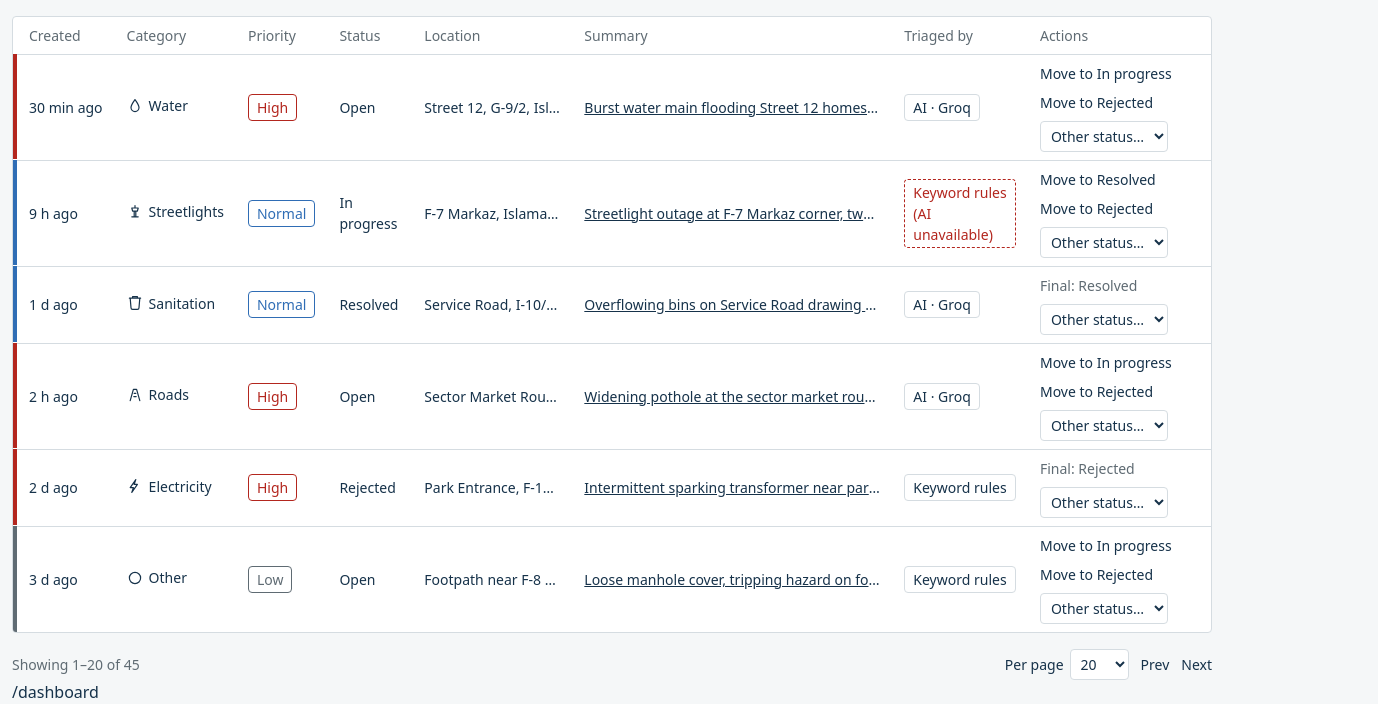
9. Next requests page=2 and the range text reflects it
The width and height of the screenshot is (1378, 704).
(page scrolled)
expect the text "Showing 1–20 of 45" is shown: met, box [12, 654, 140, 675]
Click the button "Next" at [1197, 664], box [1181, 654, 1212, 675]
(page scrolled)
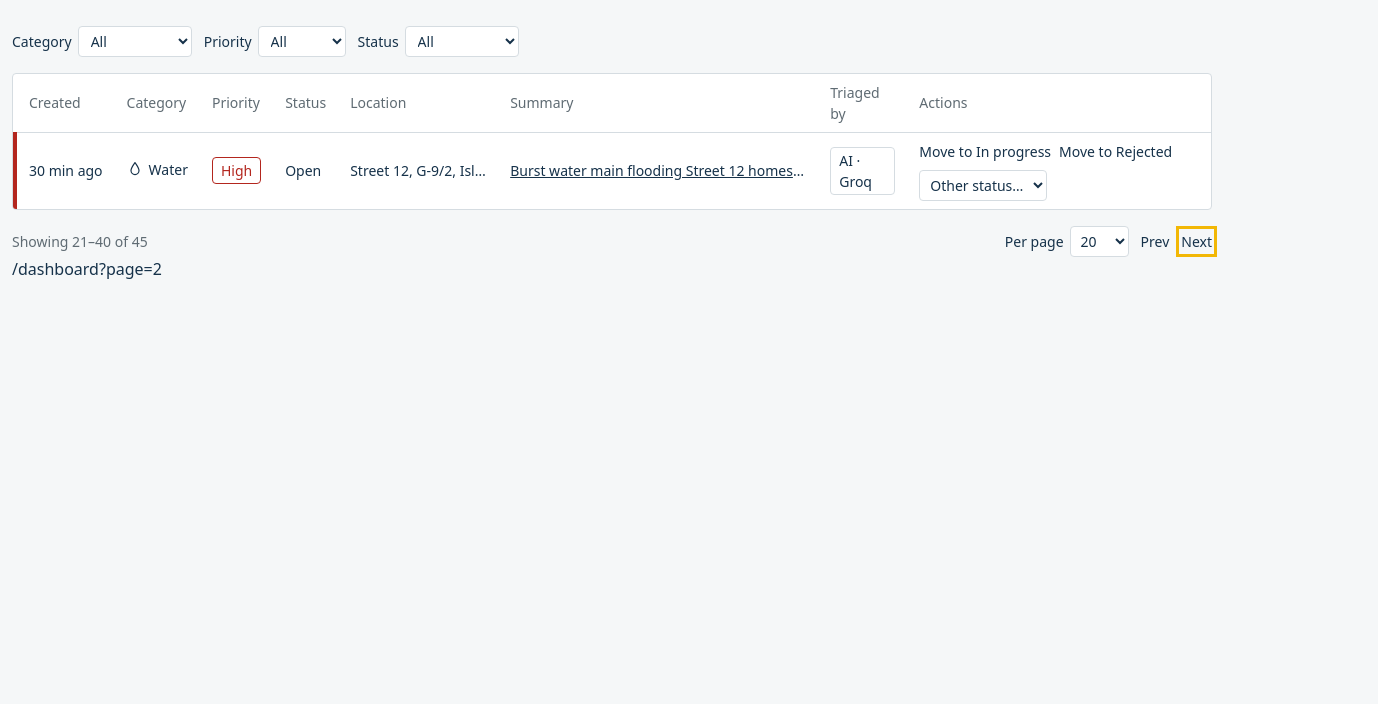
expect the text with test id "location" reads "/dashboard?page=2": met, box [12, 258, 162, 280]
expect the text "Showing 21–40 of 45" is shown: met, box [12, 231, 148, 252]
